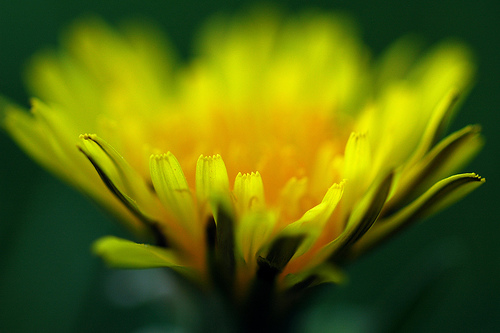dandelion: (7, 9, 497, 298)
